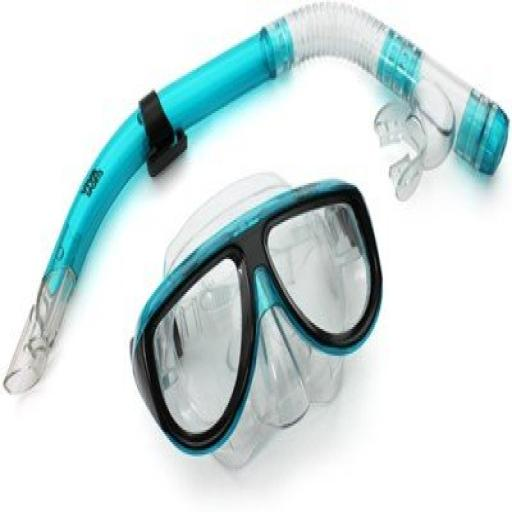swimming: (2, 0, 510, 473), (128, 168, 384, 471)
